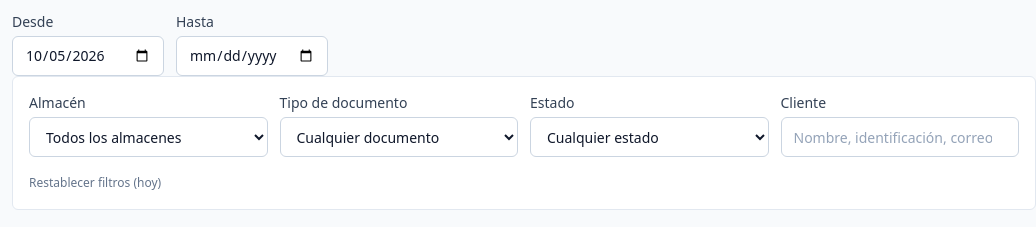
Test: HistoryFilters › typing a date by hand › a half-typed year (0002-10-13) is never committed; on blur the field returns to the last good value
In the date field labelled "Desde": {"x": 88, "y": 56} 12,36 -> 164,76, type "0002-10-13"
Wait 2000 ms
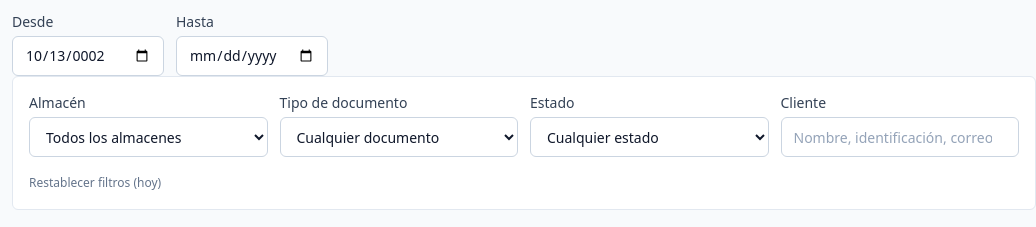
Leave the date field labelled "Desde", box 12,36 -> 164,76
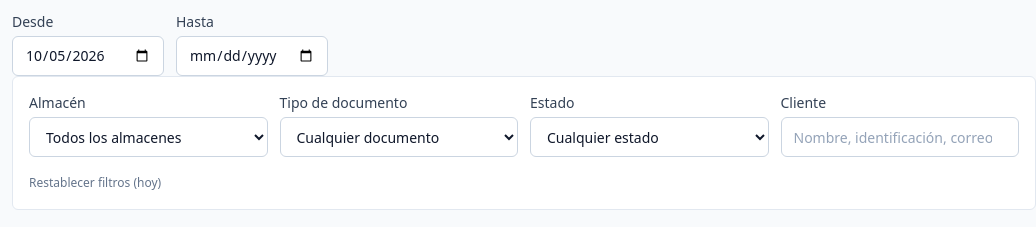
Result: the date field labelled "Desde" holds "2026-10-05" at 12,36 -> 164,76
